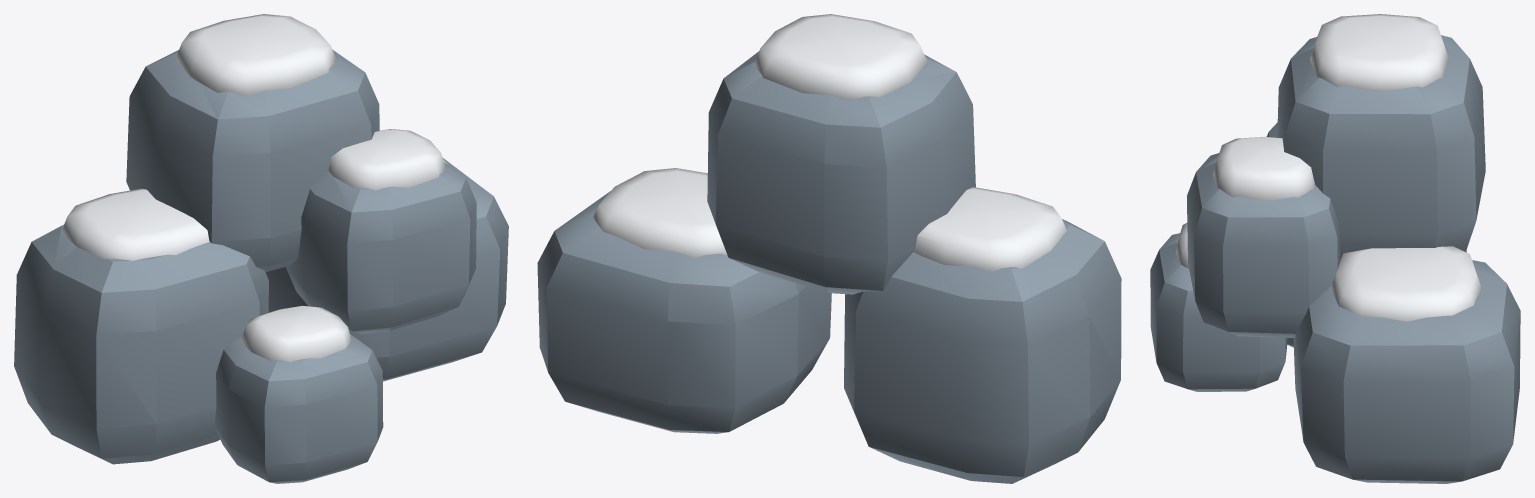
File: SnowyRockPile.glb
3 views of the same model, side by side, from view 1: azimuth 30°, elevation 25°; view 2: azimuth 150°, elevation 25°; view 3: azimuth 270°, elevation 25° (orthographic). The views are drawn at different scales.
Parts seen in each view (by area): view 1: SnowyRockPile; view 2: SnowyRockPile; view 3: SnowyRockPile.
Part boxes in pixels (box(x1,y1,x2,y2)): SnowyRockPile: box(14, 14, 508, 483); SnowyRockPile: box(537, 14, 1121, 483); SnowyRockPile: box(1150, 14, 1520, 483).
Size of the model in its own units: 5.99 by 4.51 by 4.2.
Materials: 1 (1 with a texture image).
